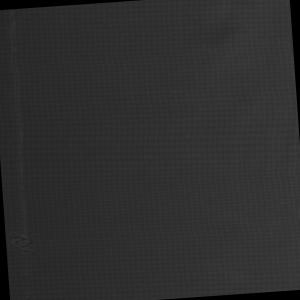Damage: (7, 229, 37, 264)
